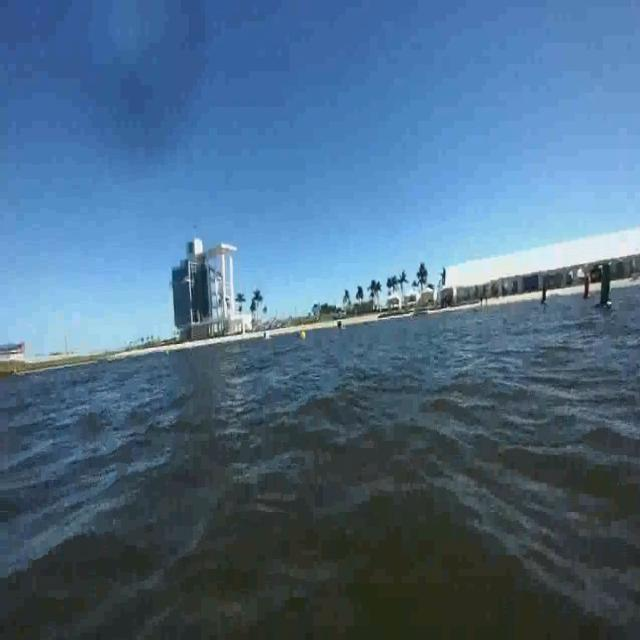green-column-buoy: (597, 260, 614, 309)
red-column-buoy: (581, 272, 592, 300)
